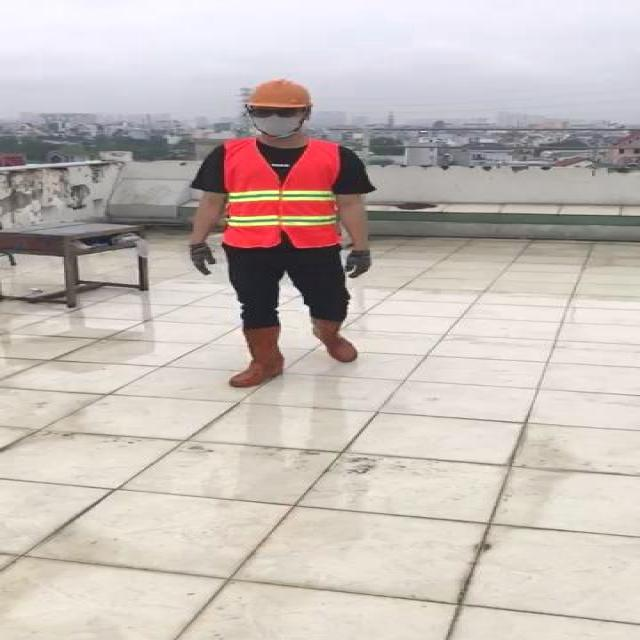boots: (226, 325, 286, 388), (306, 315, 359, 362)
face_mask: (247, 107, 304, 137)
glasses: (246, 102, 305, 121)
hand_glove: (341, 250, 375, 279), (190, 243, 217, 277)
head_helmet: (248, 76, 316, 108)
person: (181, 80, 383, 390)
vest: (222, 138, 345, 249)
